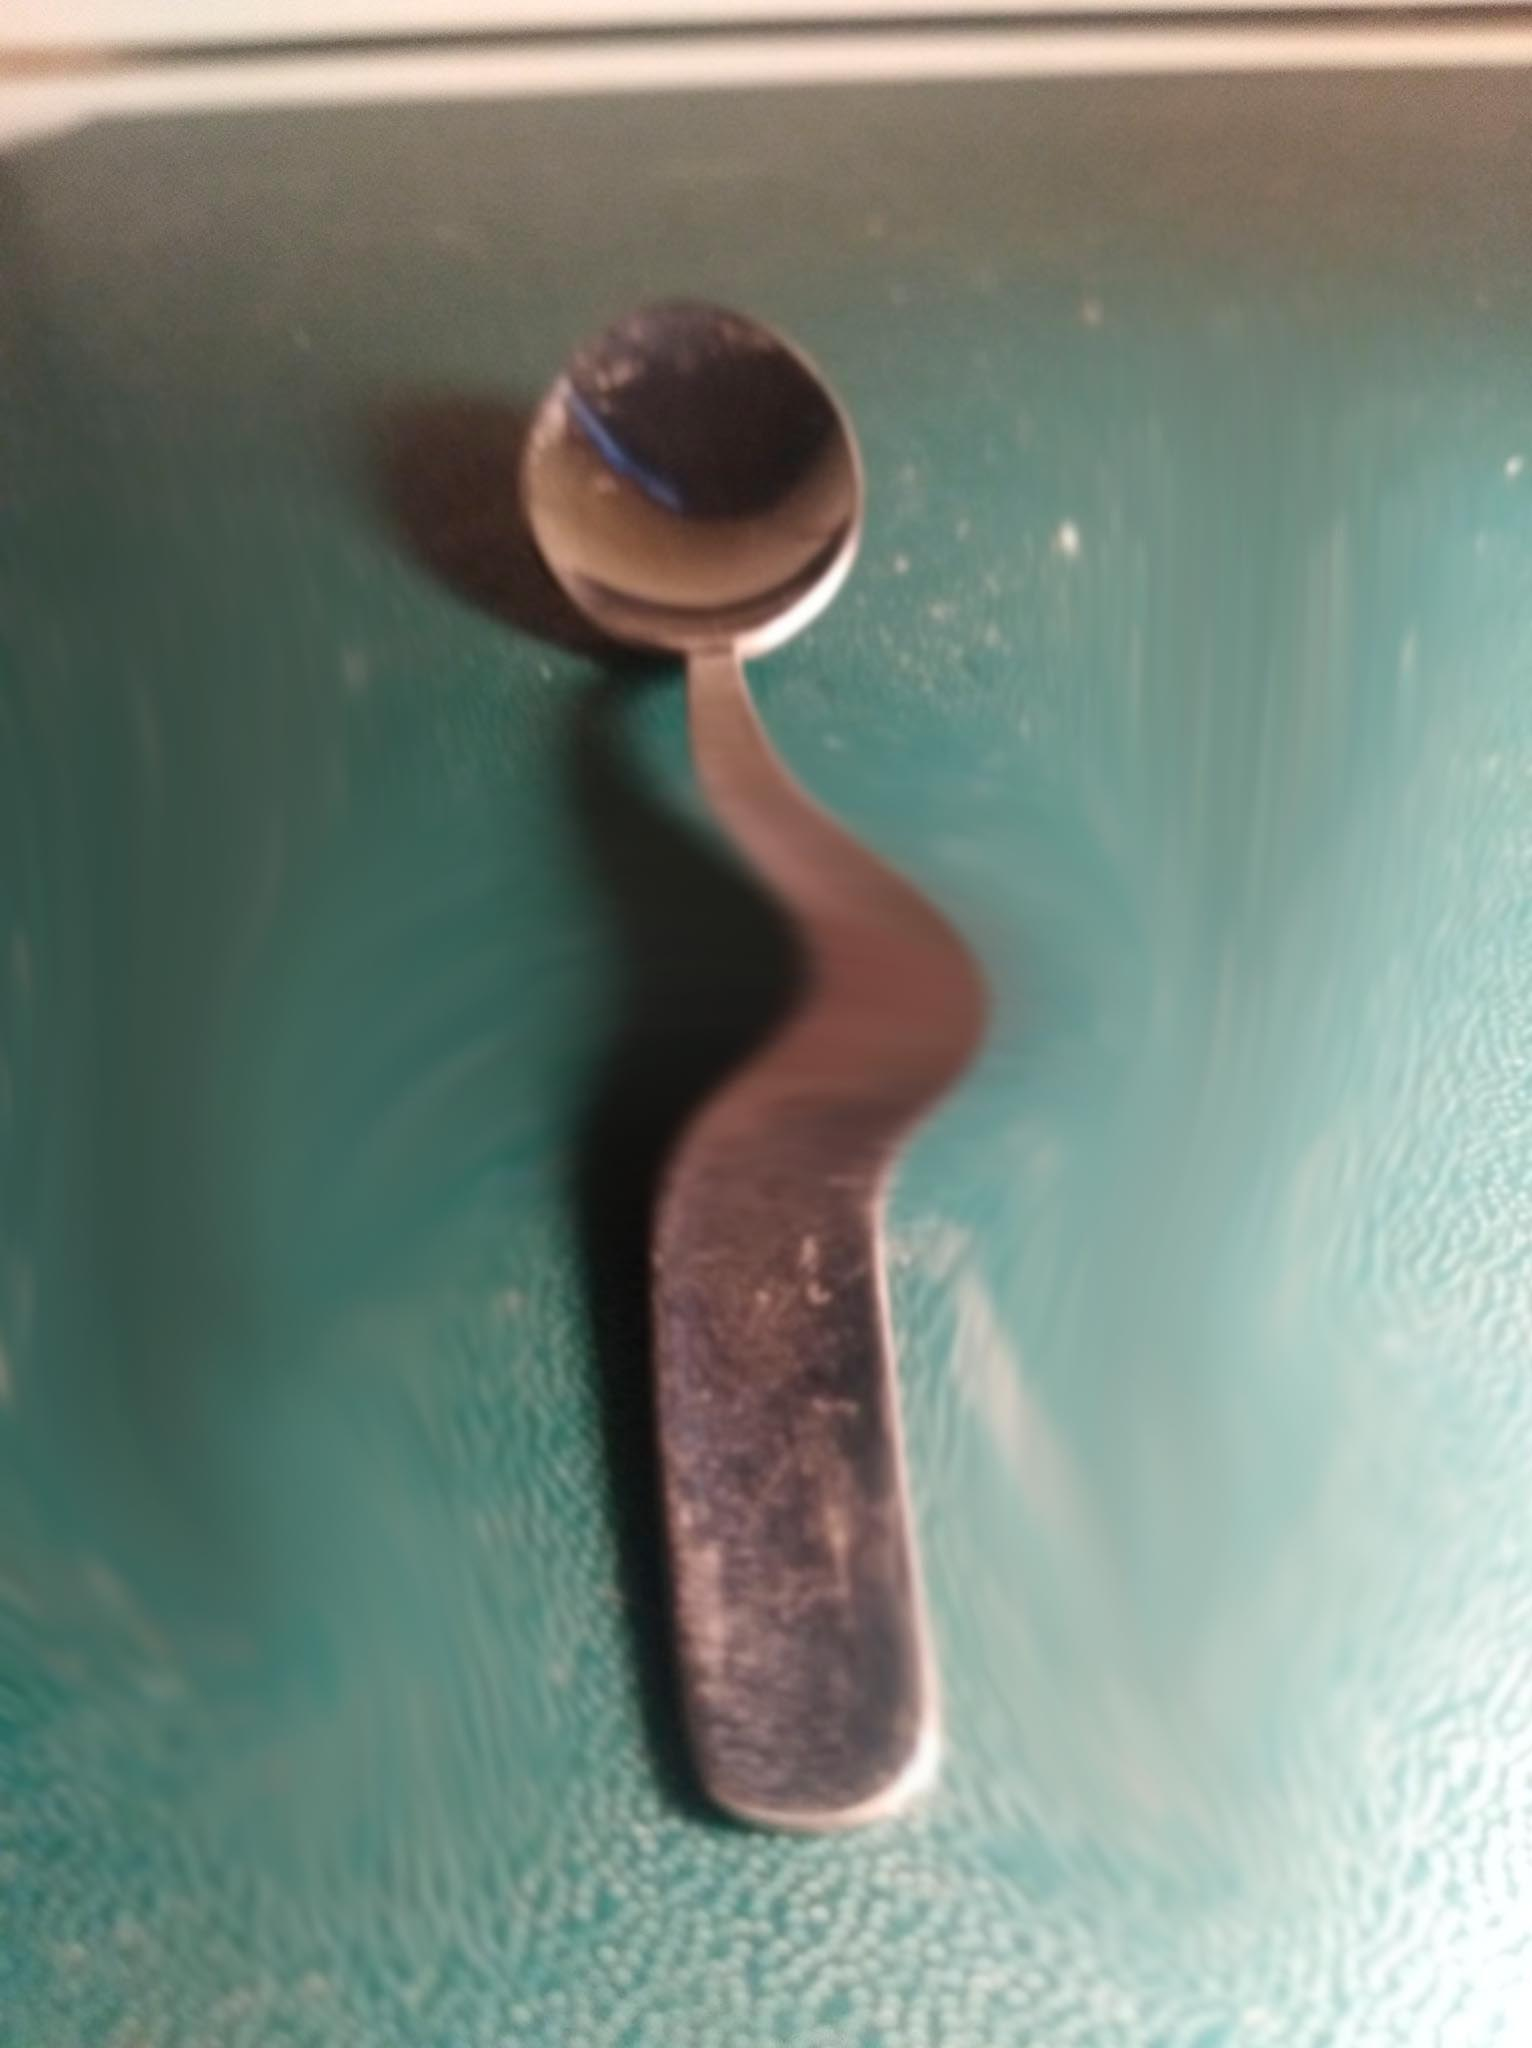Lyzka: (497, 291, 920, 687)
